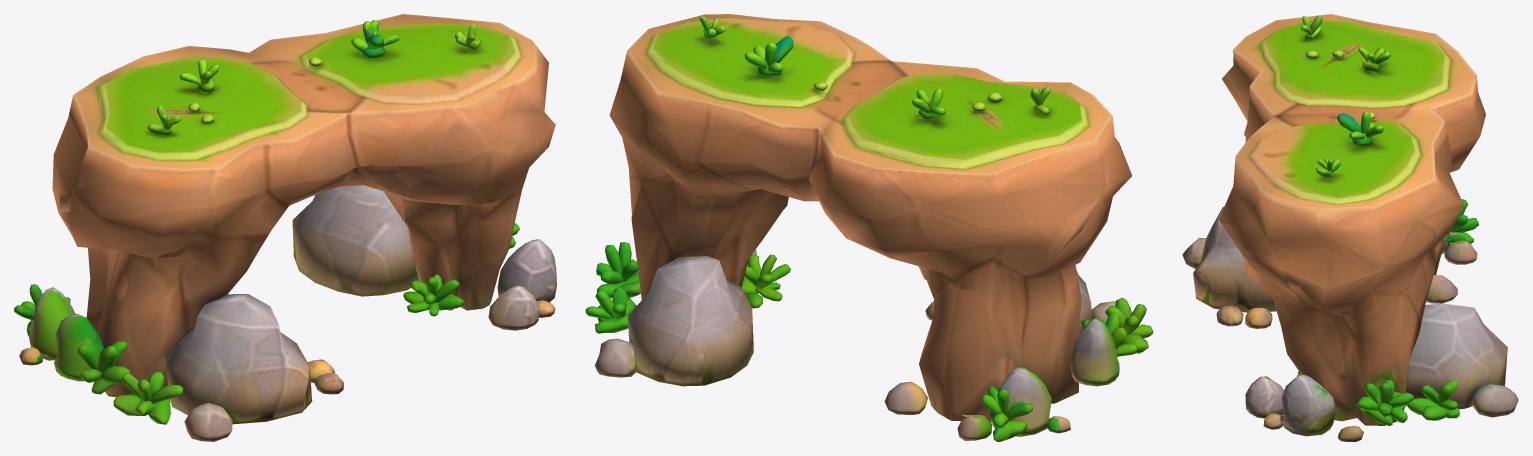
Rendered from r5c2_grassy_rock_overhang.glb.
3 views of the same model, side by side, from view 1: azimuth 30°, elevation 25°; view 2: azimuth 150°, elevation 25°; view 3: azimuth 270°, elevation 25° (orthographic). The views are drawn at different scales.
Size of the model in its own units: 1 by 0.5781 by 0.666.
Materials: 1 (1 with a texture image).
